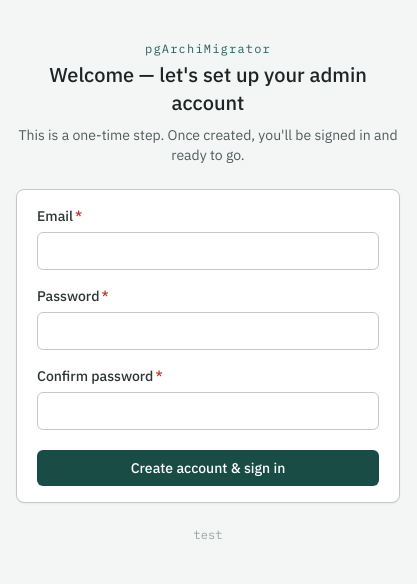
Test: Setup › shows the backend's own error message when setup is refused (e.g. already bootstrapped)
Type "founder@company.com" into the field labelled "Email*". click: (208, 251)
box: [37, 232, 379, 270]
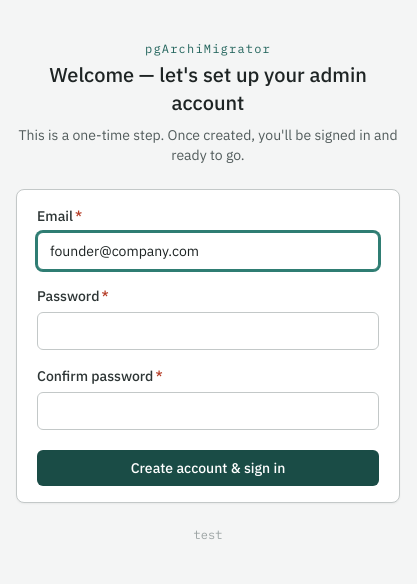
Type "a-strong-password" into the password field labelled "Password*". click: (208, 331)
box: [37, 312, 379, 350]
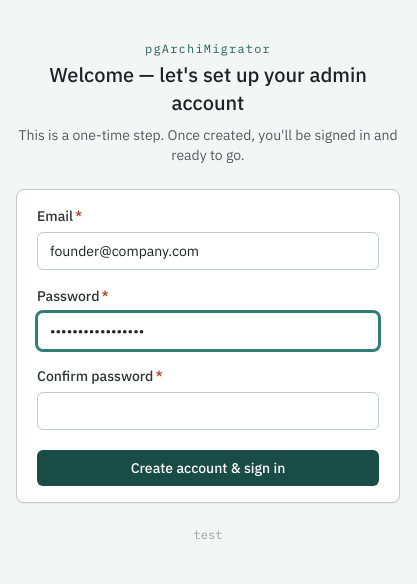
Type "a-strong-password" into the password field labelled "Confirm password*". click: (208, 411)
box: [37, 392, 379, 430]
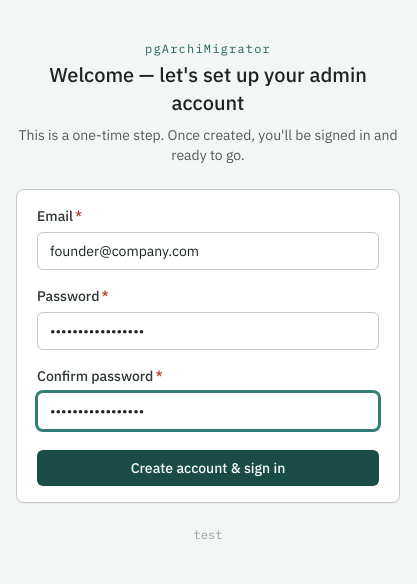
Click the button "Create account & sign in". click: (208, 468)
box: [37, 450, 379, 486]
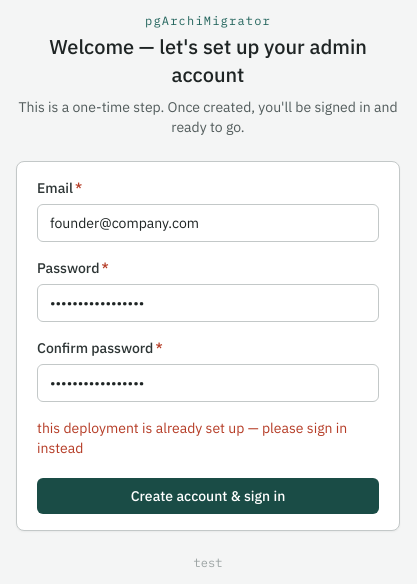
Expected: the text "this deployment is already set up — please sign in instead" is shown, [37, 418, 379, 458]
